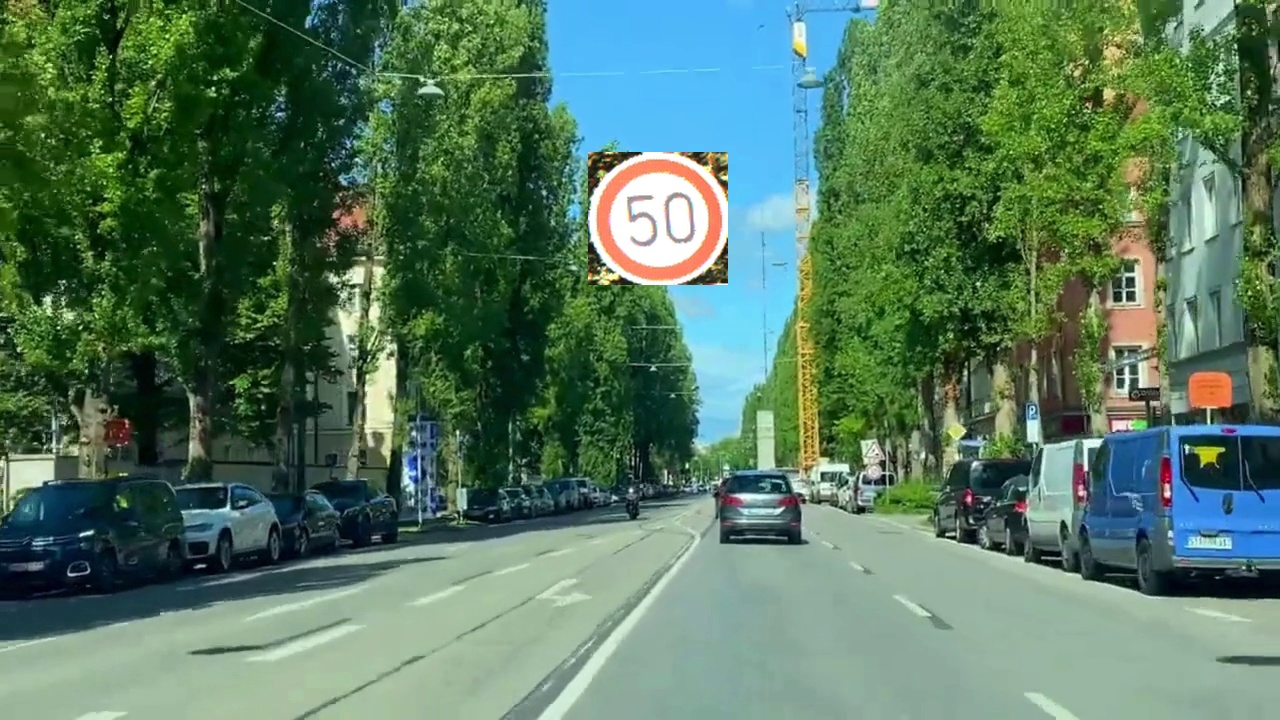Speed 50: (588, 152, 728, 285)
